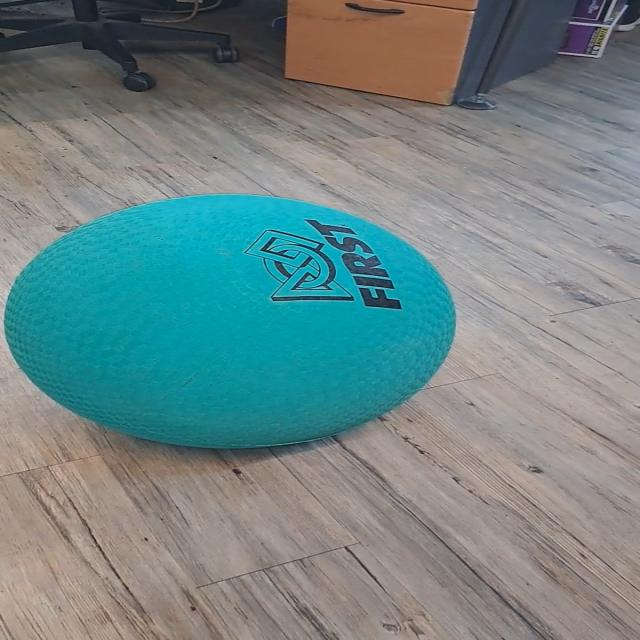ALGAE: (2, 192, 458, 450)
